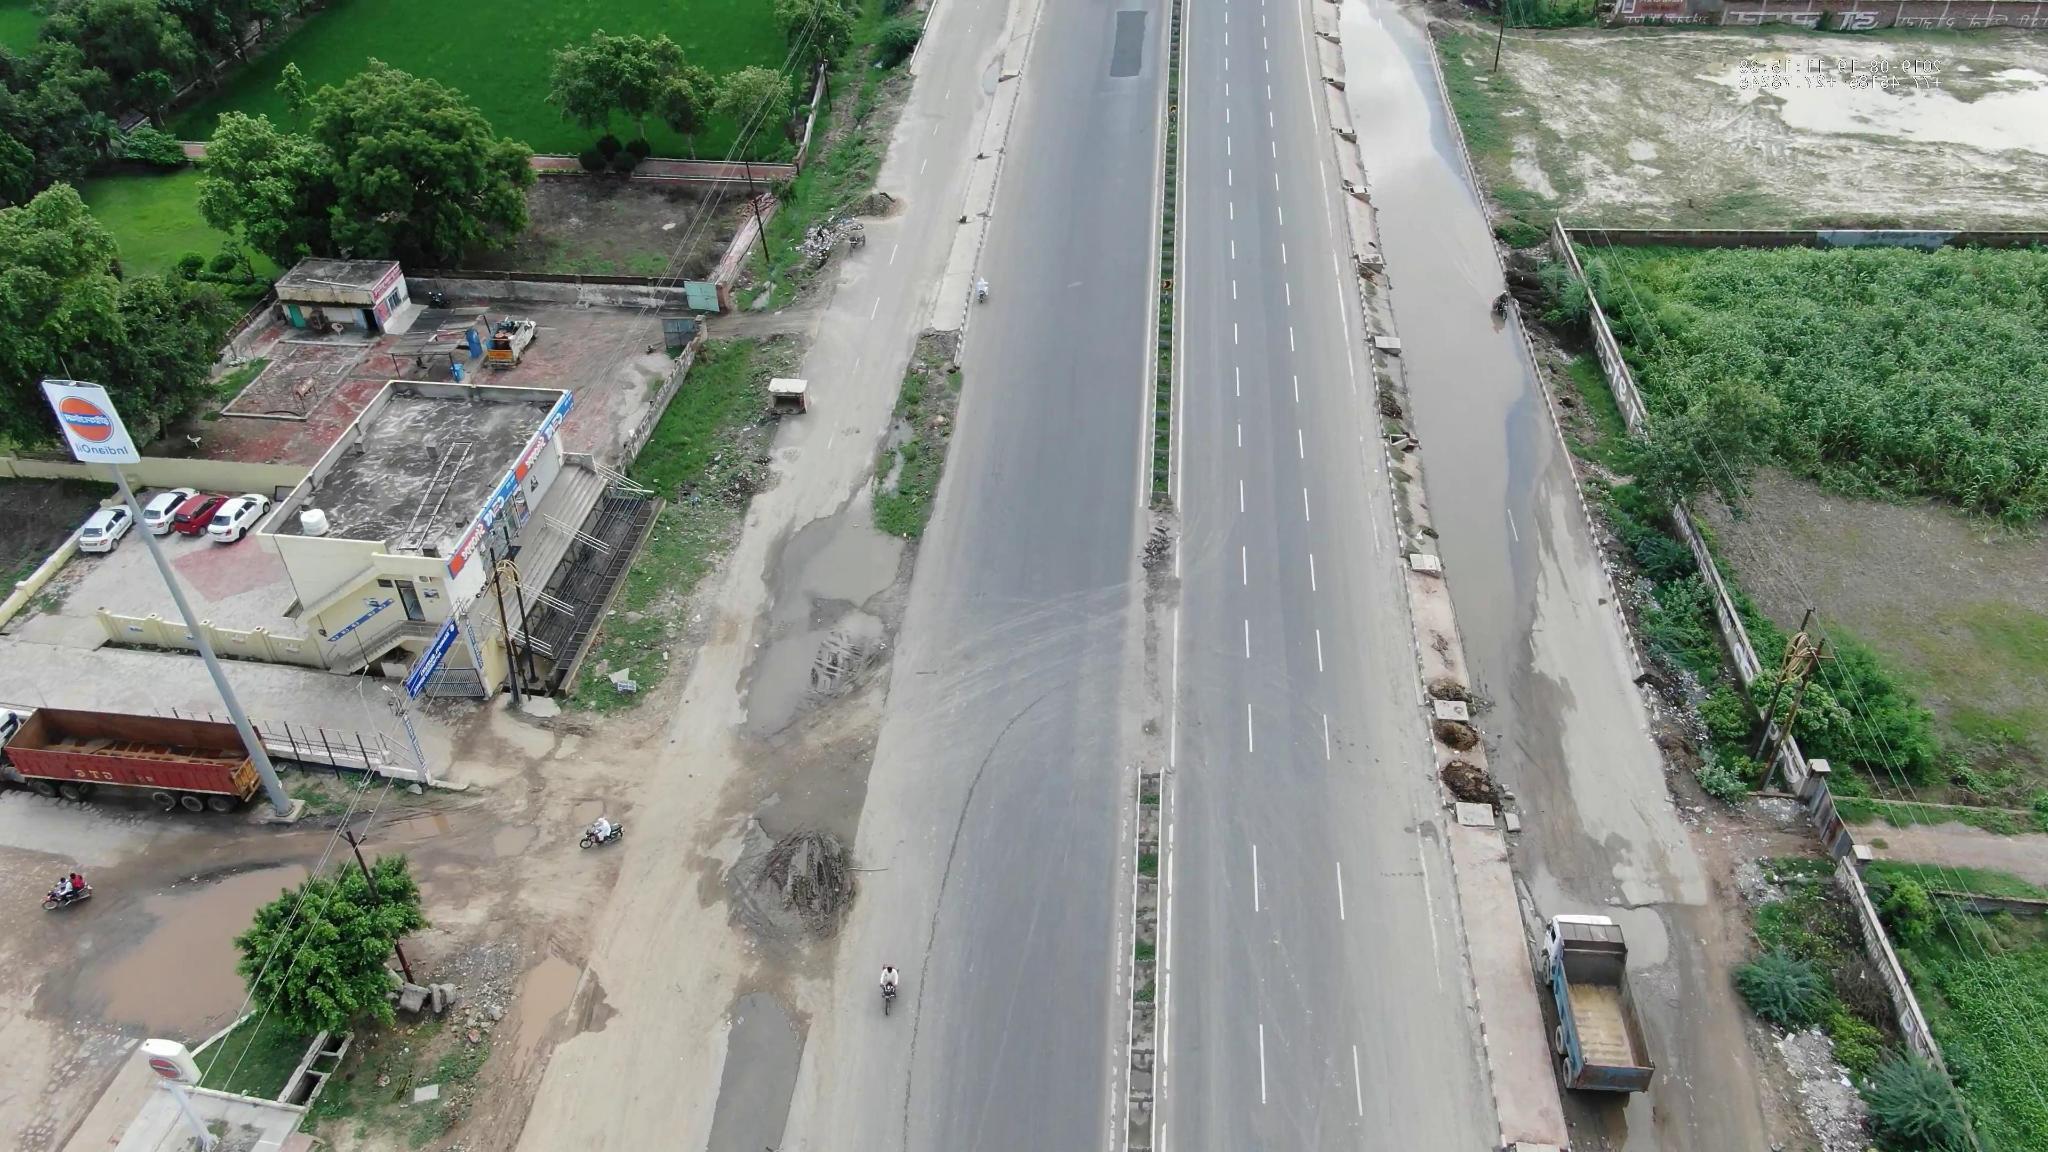Waterlogging: (1362, 136, 1530, 617)
